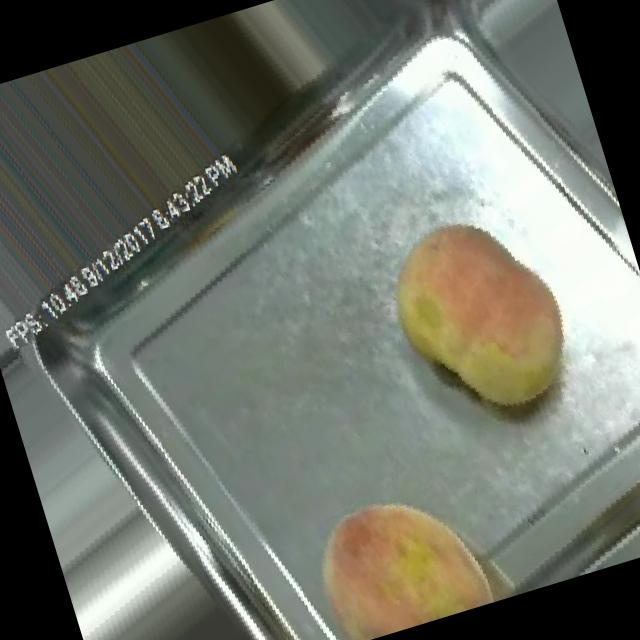Fruit: (334, 164, 620, 466), (263, 438, 528, 640)
